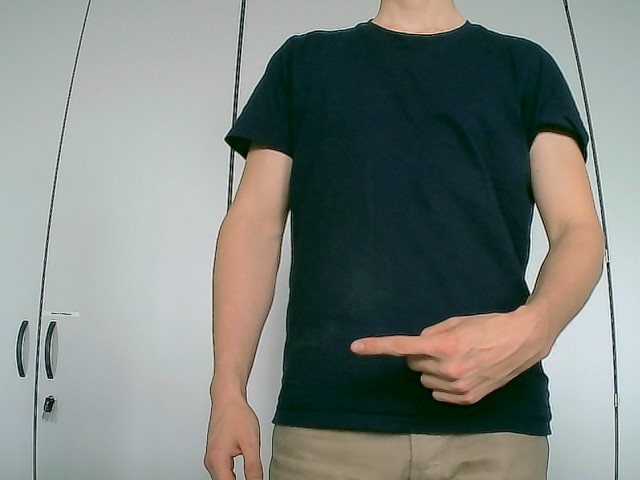right: (348, 305, 551, 407)
